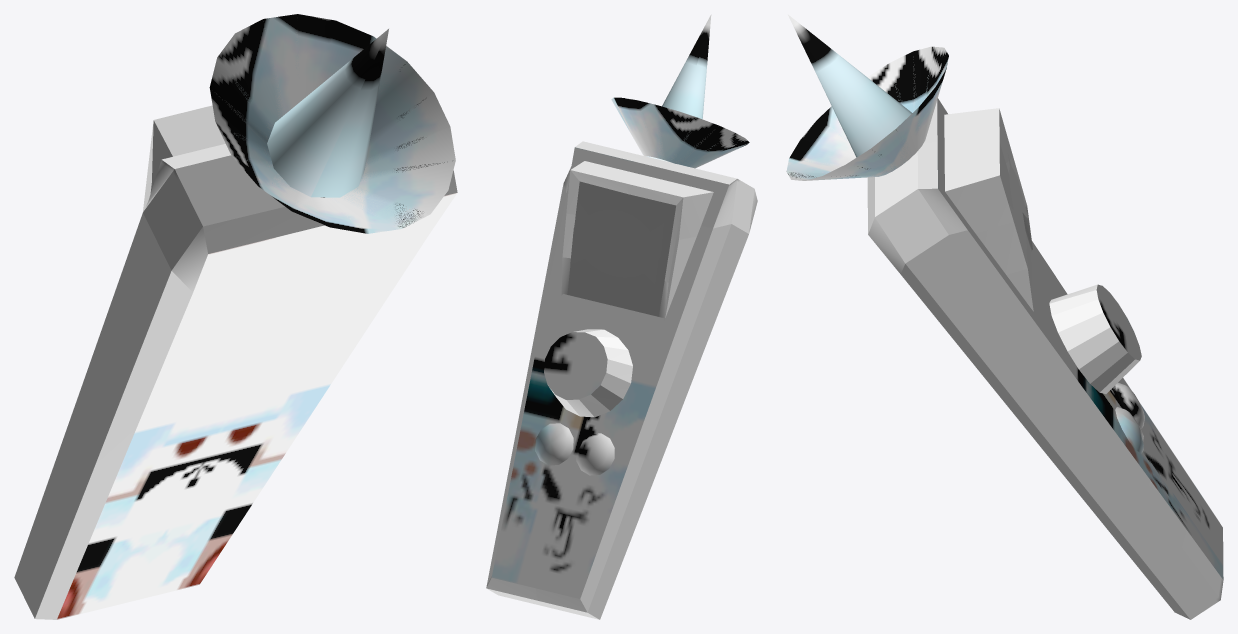
The model's file is static.ico.obj.
The picture shows the model from 3 angles, left to right: view 1: azimuth 30°, elevation 25°; view 2: azimuth 150°, elevation 25°; view 3: azimuth 270°, elevation 25°; orthographic projection. The views are drawn at different scales.
Bounding box in the file's own units: 1.54 × 4.15 × 2.85.
